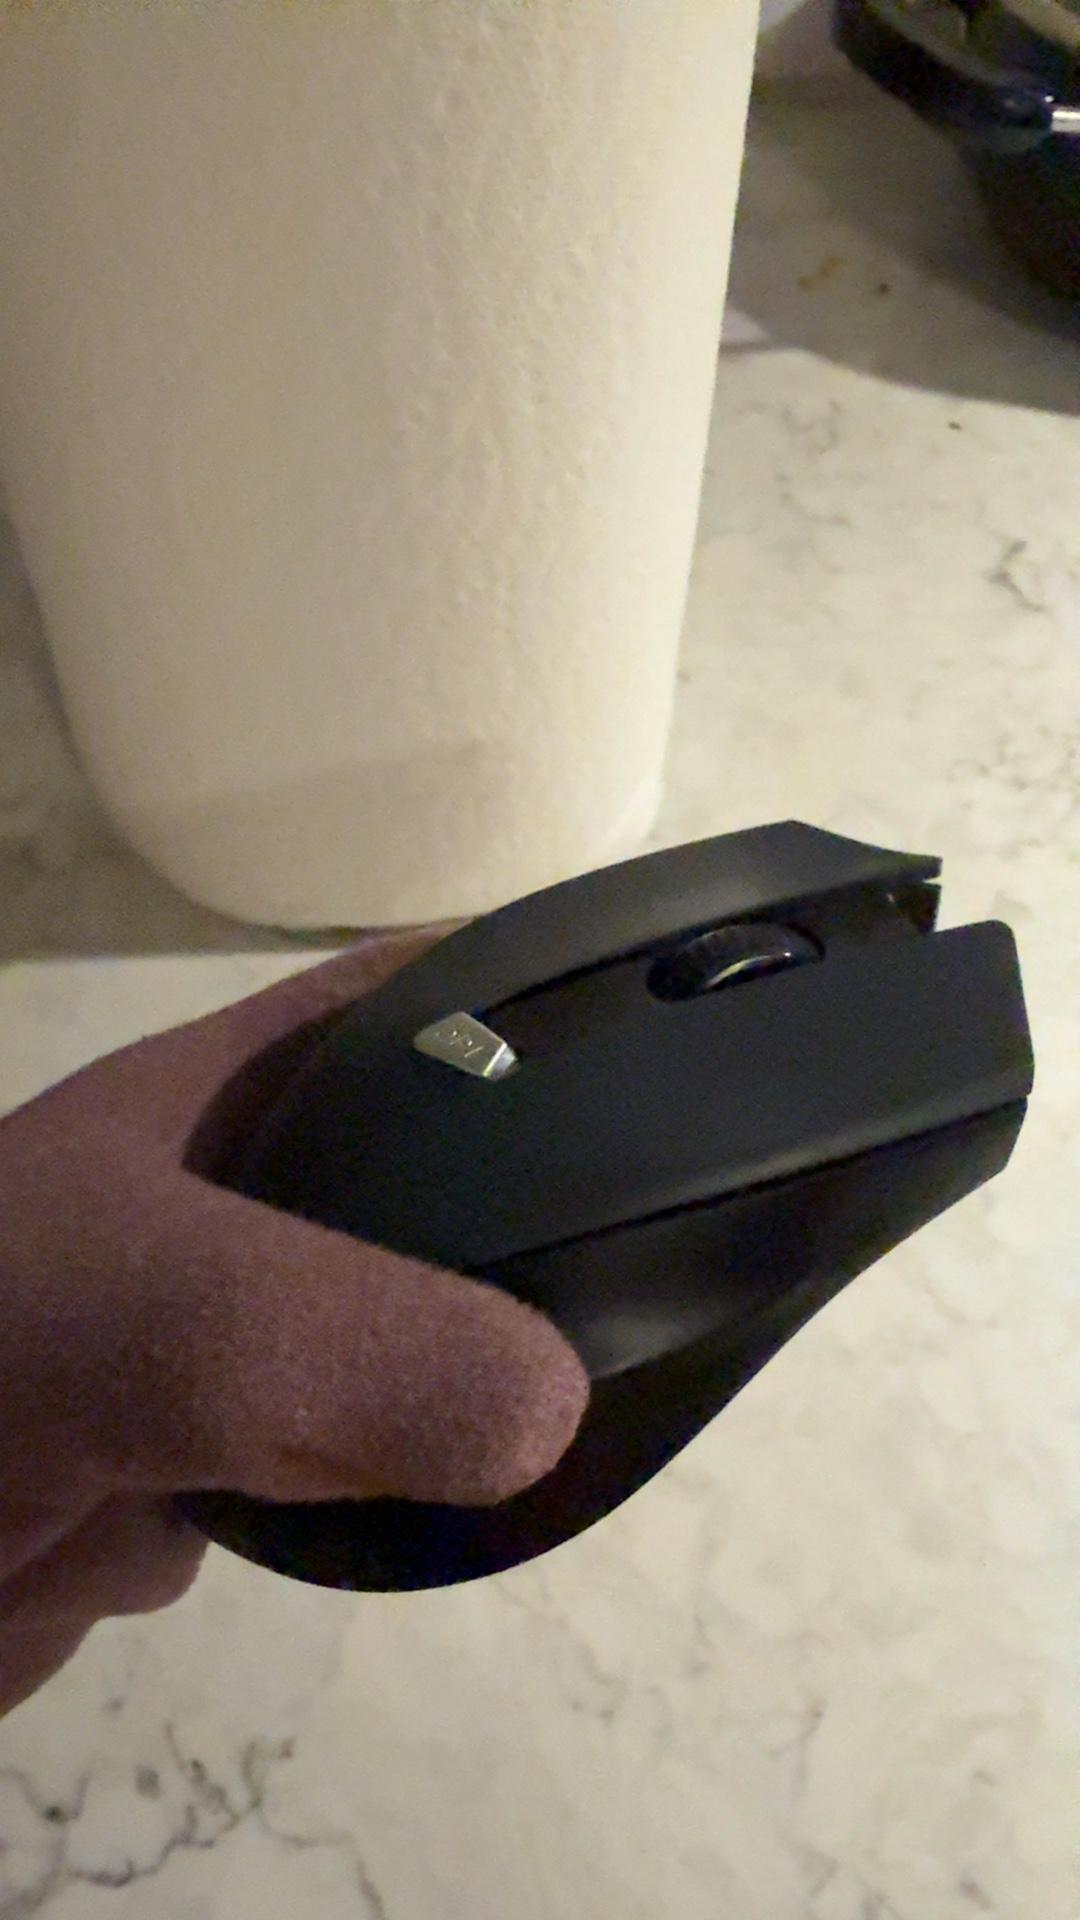Aulaf75: (150, 765, 1030, 1607)
